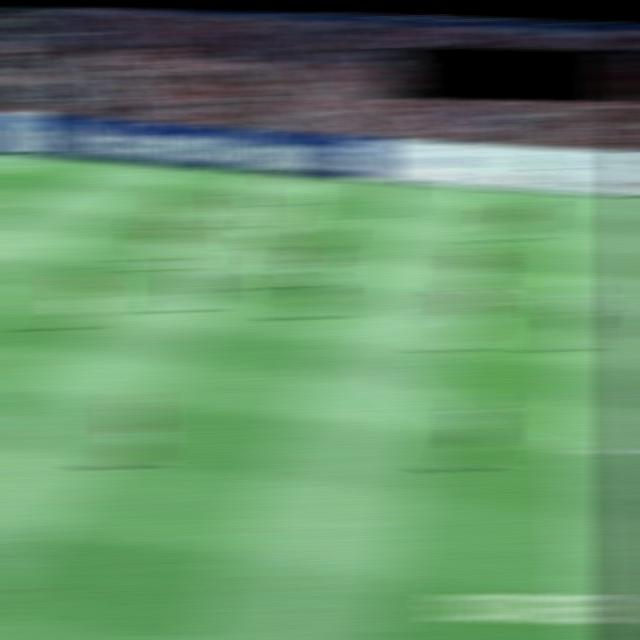bigarea_top_inner: (13, 200, 48, 212)
halfcircle_bottom: (556, 441, 596, 458)
halfcircle_top: (543, 295, 587, 316)
midline_top_intersection: (542, 191, 577, 203)
